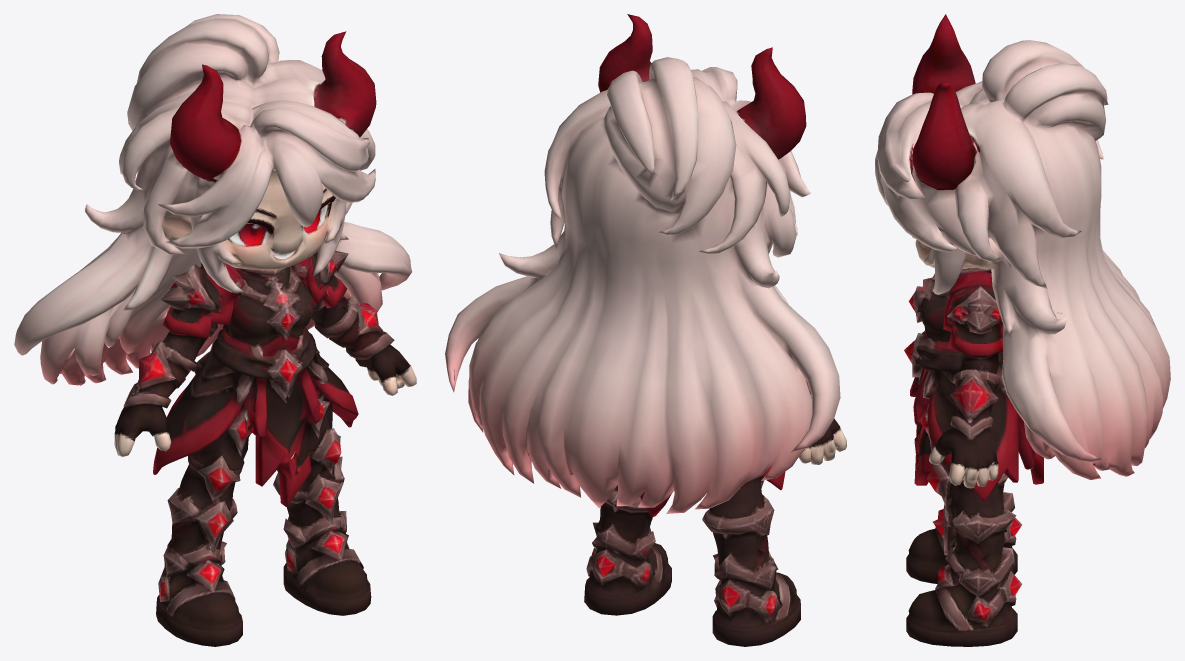
Rendered from Costume_HornsArcherF.glb.
The picture shows the model from 3 angles, left to right: view 1: azimuth 30°, elevation 25°; view 2: azimuth 150°, elevation 25°; view 3: azimuth 270°, elevation 25°; orthographic projection. The views are drawn at different scales.
Visible parts, largest first — view 1: Body, Head; view 2: Body, Head; view 3: Head, Body.
Boxes of the visible parts, x1=… form: Body: x1=14, y1=227, x2=416, y2=646; Head: x1=37, y1=14, x2=376, y2=315; Body: x1=445, y1=280, x2=846, y2=646; Head: x1=499, y1=14, x2=832, y2=379; Head: x1=875, y1=14, x2=1117, y2=360; Body: x1=904, y1=250, x2=1170, y2=646.
Bounding box in the file's own units: 0.6864 × 0.977 × 0.4722.
Materials: 2 (2 with a texture image).
